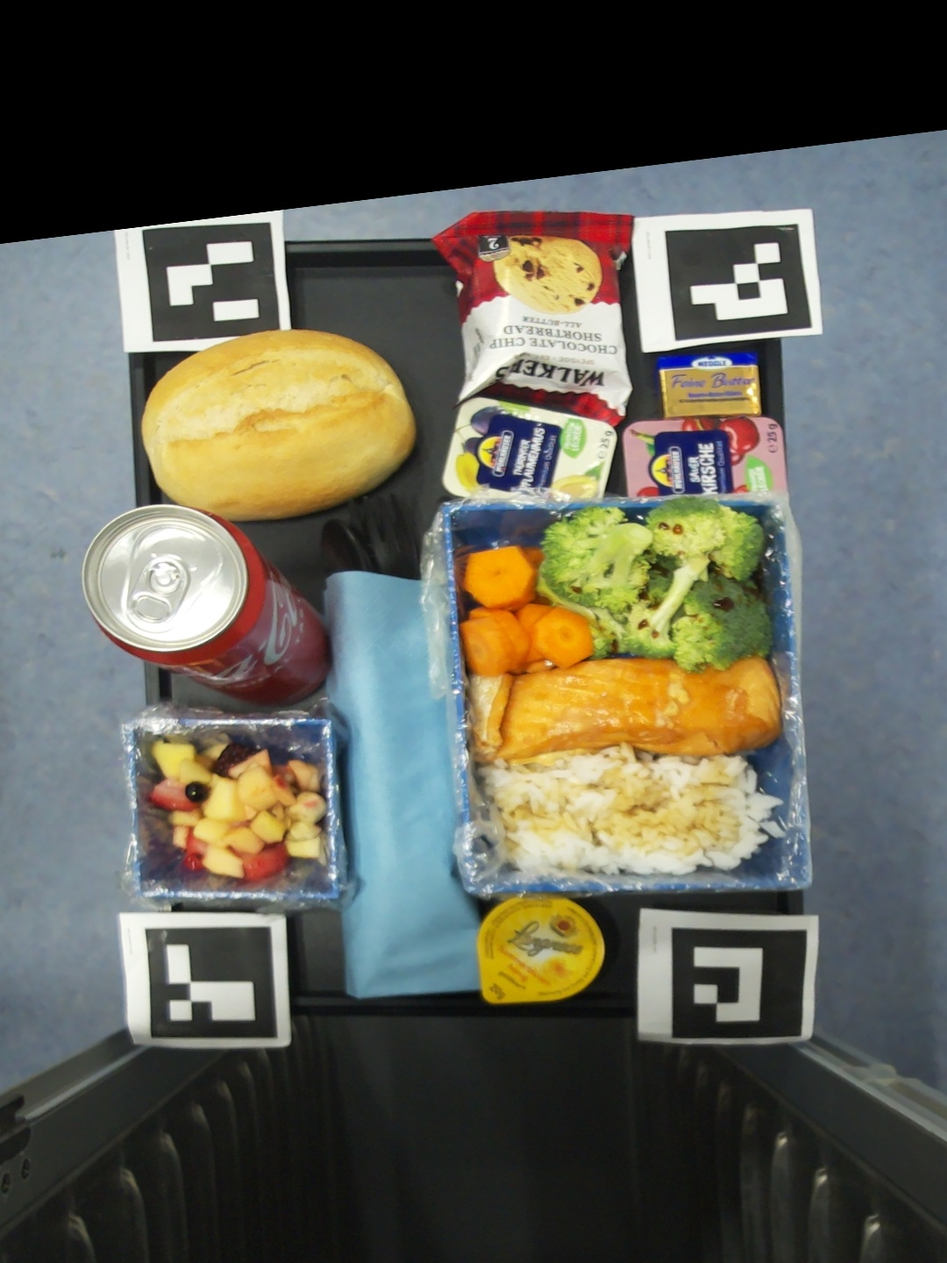bread_roll: (140, 328, 415, 522)
broccoli: (540, 497, 774, 672)
butter: (654, 351, 761, 418)
carrots: (458, 545, 593, 676)
cherry_jam: (622, 416, 787, 497)
cola: (81, 504, 332, 705)
cookie: (431, 210, 634, 425)
fish_salmon: (468, 657, 781, 763)
fruit_salad: (150, 734, 326, 877)
honey: (478, 895, 603, 1000)
plum_jam: (441, 396, 616, 499)
rice: (476, 745, 785, 876)
